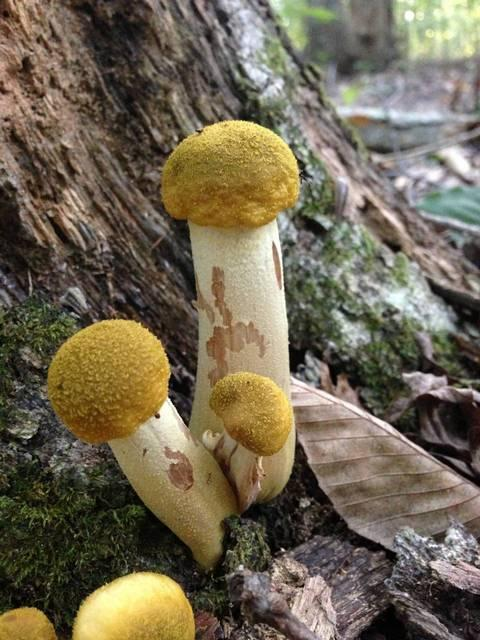edible_mushroom: (158, 118, 301, 510), (46, 317, 240, 572)
